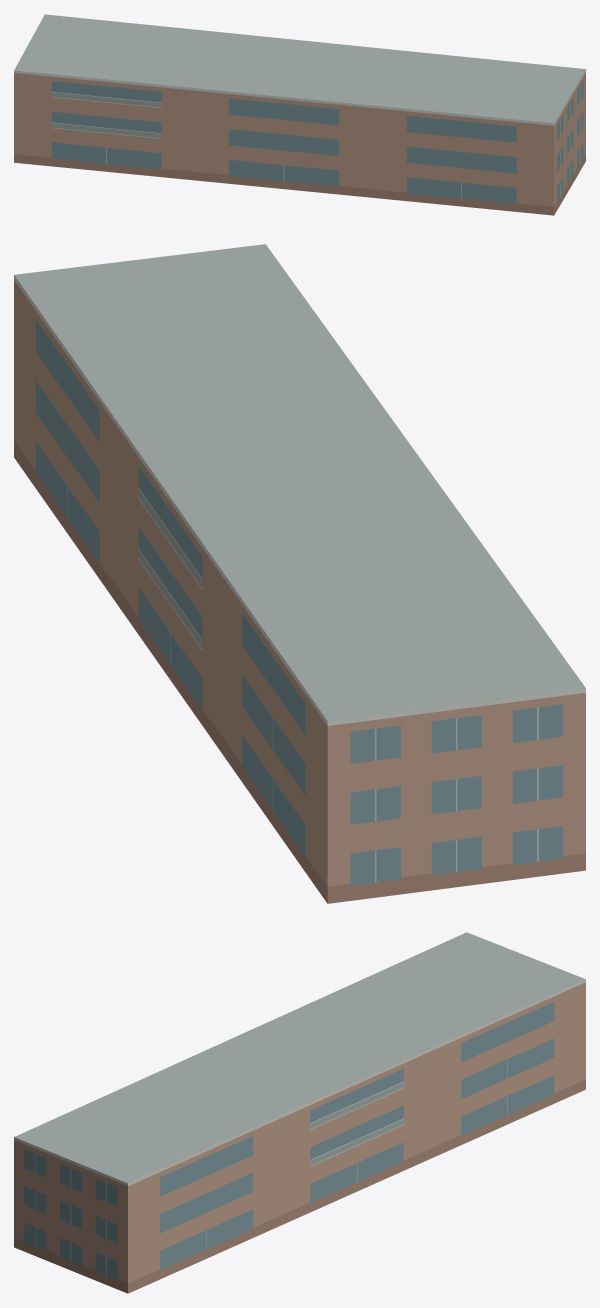
Rendered from survey-upis-32907289.glb.
The picture shows the model from 3 angles, top to bottom: view 1: azimuth 30°, elevation 25°; view 2: azimuth 150°, elevation 25°; view 3: azimuth 270°, elevation 25°; orthographic projection. The views are drawn at different scales.
Parts seen in each view (by area): view 1: survey-upis-32907289.tmp; view 2: survey-upis-32907289.tmp; view 3: survey-upis-32907289.tmp.
Part boxes in pixels (x1,y1,x2,y2): survey-upis-32907289.tmp: (14,14,585,215); survey-upis-32907289.tmp: (14,244,585,903); survey-upis-32907289.tmp: (14,932,585,1293).
Size of the model in its own units: 44.69 by 9.15 by 43.
